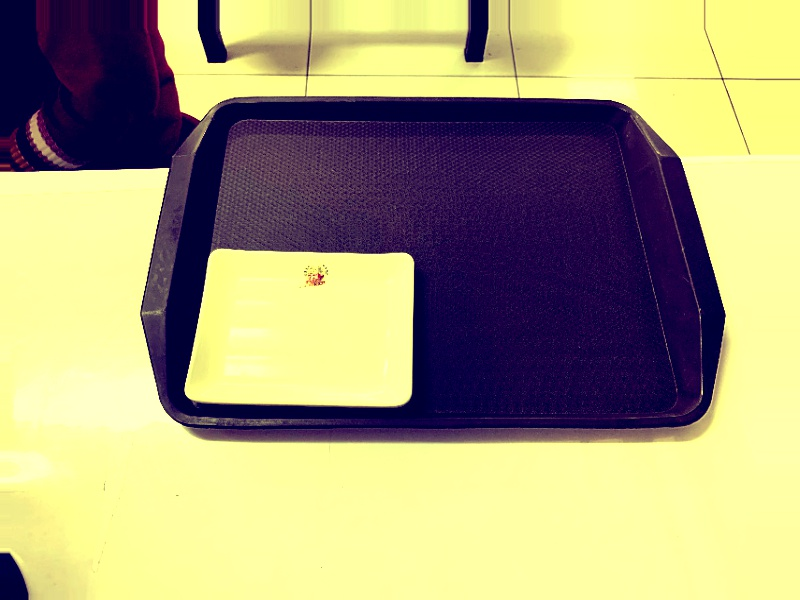dish4: (181, 242, 425, 415)
